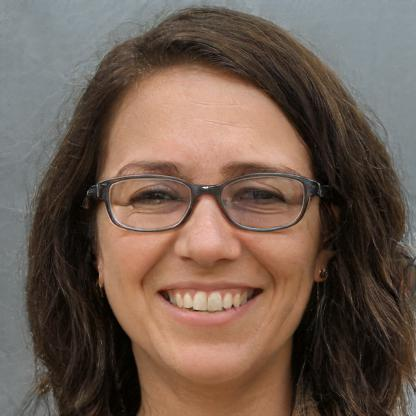glasses: (90, 171, 318, 234)
